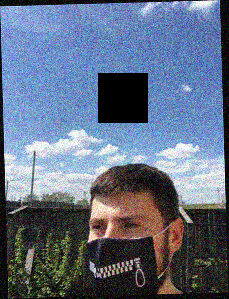with_mask: (85, 205, 165, 296)
